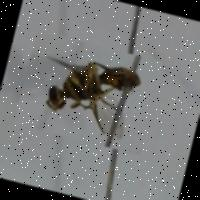Oriental-fruit-fly: (13, 30, 162, 155)
